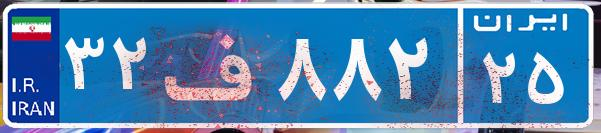2: (385, 28, 445, 110), (475, 38, 525, 113), (110, 28, 158, 105)
3: (57, 26, 110, 107)
5: (525, 38, 570, 115)
8: (273, 28, 330, 110), (330, 28, 385, 110)
ف: (158, 15, 273, 115)
